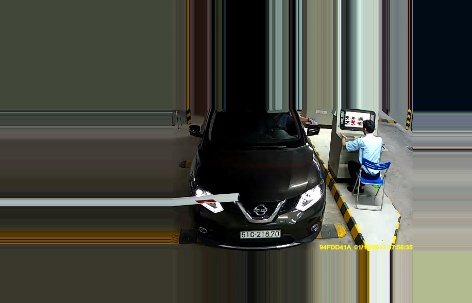plate: (239, 226, 281, 239)
